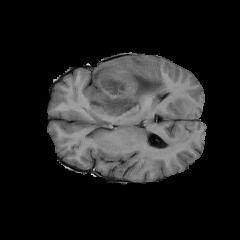glioma: (85, 56, 169, 118)
